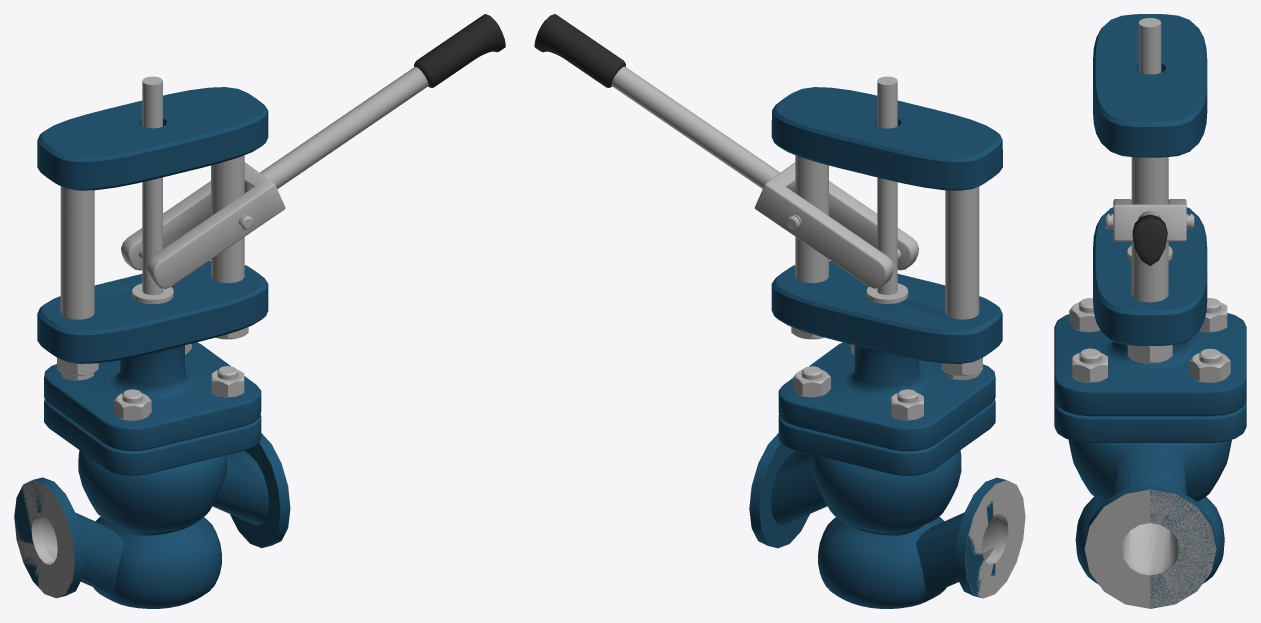
Rendered from Valve_01.glb.
The picture shows the model from 3 angles, left to right: view 1: azimuth 30°, elevation 25°; view 2: azimuth 150°, elevation 25°; view 3: azimuth 270°, elevation 25°; orthographic projection. The views are drawn at different scales.
Parts seen in each view (by area): view 1: Coupling_full, Head_full, Coupling_03, Handle, Shaft_01, Piston, Coupling_section, Shaft_02, Head_section; view 2: Coupling_full, Head_full, Coupling_03, Handle, Shaft_01, Head_section, Piston, Shaft_02, Coupling_section, Nut_04, Nut_00; view 3: Coupling_full, Head_full, Coupling_03, Coupling_section, Handle, Shaft_02, Head_section, Piston, Nut_04, Nut_02, Nut_00, Nut_03.
Boxes of the visible parts, box(x1,y1,x2,y2) form: Coupling_full: box(14, 399, 290, 608); Head_full: box(37, 260, 268, 450); Coupling_03: box(37, 87, 268, 190); Handle: box(121, 14, 505, 288); Shaft_01: box(60, 186, 94, 319); Piston: box(142, 76, 162, 295); Coupling_section: box(14, 405, 250, 586); Shaft_02: box(211, 155, 244, 282); Head_section: box(46, 265, 253, 423); Coupling_full: box(749, 399, 1025, 608); Head_full: box(771, 260, 1002, 451); Coupling_03: box(771, 87, 1002, 190); Handle: box(534, 14, 919, 288); Shaft_01: box(945, 186, 979, 319); Head_section: box(778, 285, 987, 442); Piston: box(877, 76, 897, 294); Shaft_02: box(795, 155, 828, 282); Coupling_section: box(759, 425, 995, 595); Nut_04: box(793, 370, 830, 397); Nut_00: box(891, 393, 923, 420); Coupling_full: box(1054, 400, 1246, 608); Head_full: box(1054, 207, 1246, 416); Coupling_03: box(1093, 14, 1207, 157); Coupling_section: box(1149, 412, 1232, 608); Handle: box(1113, 199, 1186, 265); Shaft_02: box(1131, 157, 1168, 302); Head_section: box(1150, 208, 1244, 416); Piston: box(1139, 18, 1161, 74); Nut_04: box(1189, 353, 1230, 382); Nut_02: box(1127, 345, 1172, 363); Nut_00: box(1199, 302, 1227, 332); Nut_03: box(1199, 348, 1221, 363).
Size of the model in its own units: 3.06 by 3.26 by 1.02.
